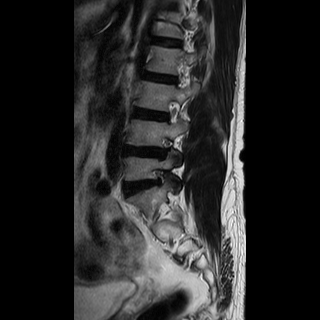RFS0: (161, 90, 189, 132)
